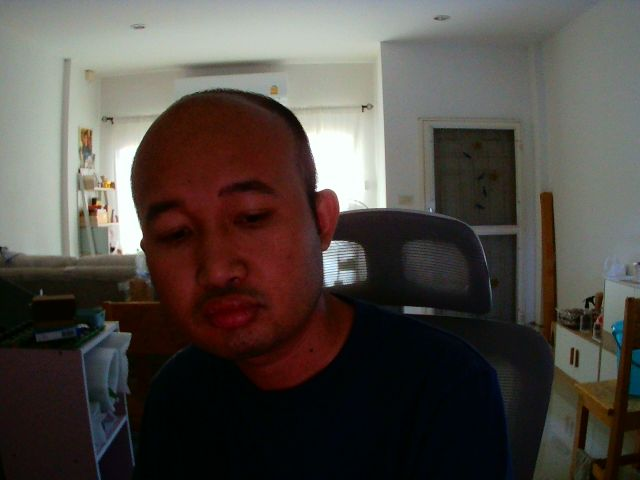face: (113, 83, 330, 362)
